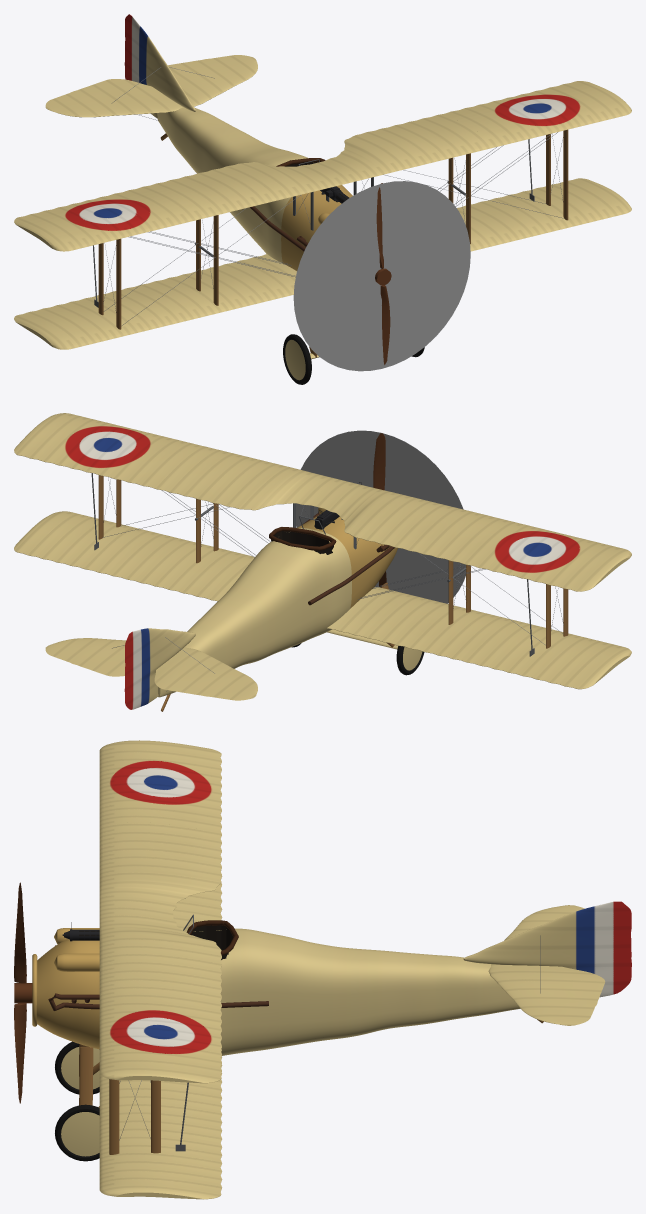
The picture shows the model from 3 angles, top to bottom: view 1: azimuth 30°, elevation 25°; view 2: azimuth 150°, elevation 25°; view 3: azimuth 270°, elevation 25°; orthographic projection. The views are drawn at different scales.
Visible parts, largest first — view 1: airframe, prop_blur, ctrl_elevator, ctrl_aileron_r_upper, ctrl_aileron_l_upper, ctrl_rudder, prop, wire_flying, wire_landing; view 2: airframe, prop_blur, ctrl_elevator, ctrl_aileron_r_upper, ctrl_aileron_l_upper, ctrl_rudder, wire_flying, prop; view 3: airframe, ctrl_rudder, ctrl_aileron_l_upper, ctrl_aileron_r_upper, ctrl_elevator, prop.
Part boxes in pixels (x1=…): airframe: x1=14, y1=35, x2=631, y2=384; prop_blur: x1=293, y1=181, x2=470, y2=371; ctrl_elevator: x1=45, y1=55, x2=256, y2=111; ctrl_aileron_r_upper: x1=14, y1=184, x2=166, y2=228; ctrl_aileron_l_upper: x1=442, y1=81, x2=598, y2=119; ctrl_rudder: x1=124, y1=14, x2=147, y2=84; prop: x1=375, y1=183, x2=391, y2=364; wire_flying: x1=129, y1=132, x2=557, y2=277; wire_landing: x1=104, y1=170, x2=564, y2=325; airframe: x1=14, y1=413, x2=631, y2=711; prop_blur: x1=296, y1=430, x2=465, y2=603; ctrl_elevator: x1=45, y1=643, x2=256, y2=700; ctrl_aileron_r_upper: x1=441, y1=543, x2=600, y2=591; ctrl_aileron_l_upper: x1=14, y1=438, x2=167, y2=487; ctrl_rudder: x1=124, y1=628, x2=150, y2=709; wire_flying: x1=161, y1=490, x2=485, y2=599; prop: x1=373, y1=433, x2=386, y2=587; airframe: x1=32, y1=740, x2=577, y2=1199; ctrl_rudder: x1=576, y1=901, x2=631, y2=997; ctrl_aileron_l_upper: x1=186, y1=994, x2=221, y2=1083; ctrl_aileron_r_upper: x1=186, y1=745, x2=221, y2=832; ctrl_elevator: x1=557, y1=905, x2=605, y2=1025; prop: x1=14, y1=882, x2=32, y2=1103.
Bounding box in the file's own units: 7.82 × 2.67 × 6.09.
Materials: 15 (1 with a texture image).
